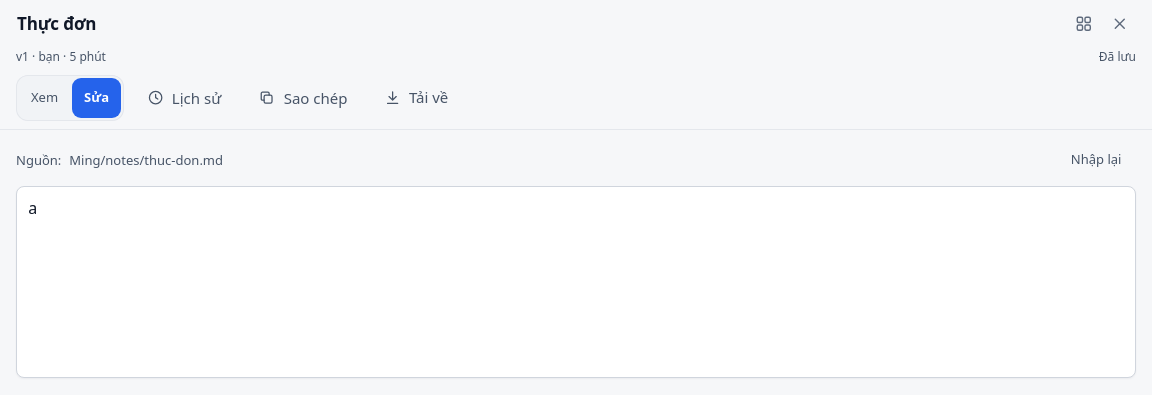
Test case: where the canvas came from › heads the body of a canvas read from a file, above its text, and stays there over the versions
Click the button "Lịch sử": click(184, 98) top-left (132, 80), bottom-right (236, 116)
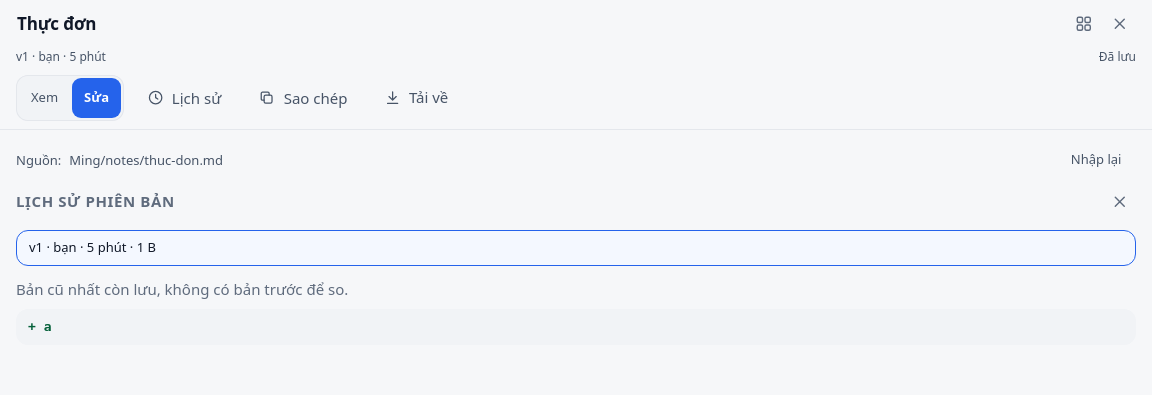
Result: the element "Lịch sử phiên bản" is shown at top-left (16, 186), bottom-right (1136, 345)
